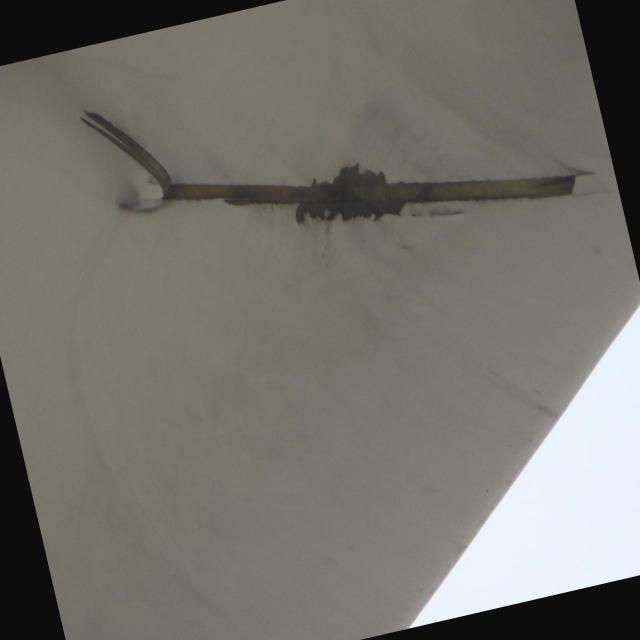crack: (78, 3, 580, 306)
